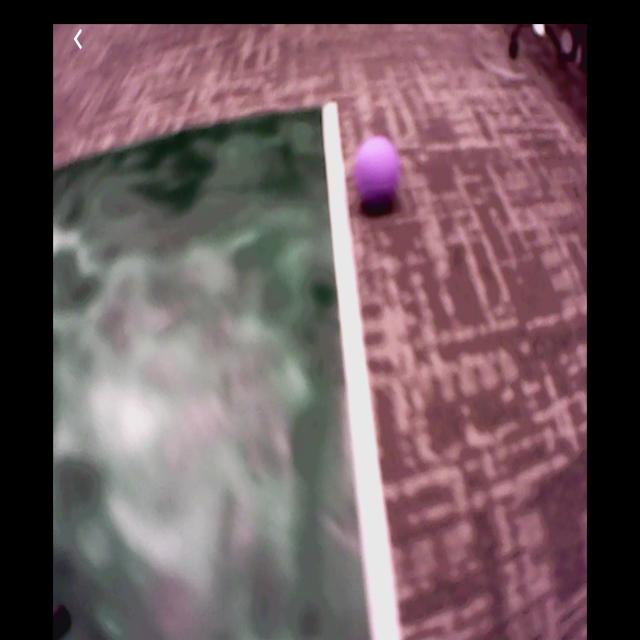ball: (355, 141, 399, 204)
